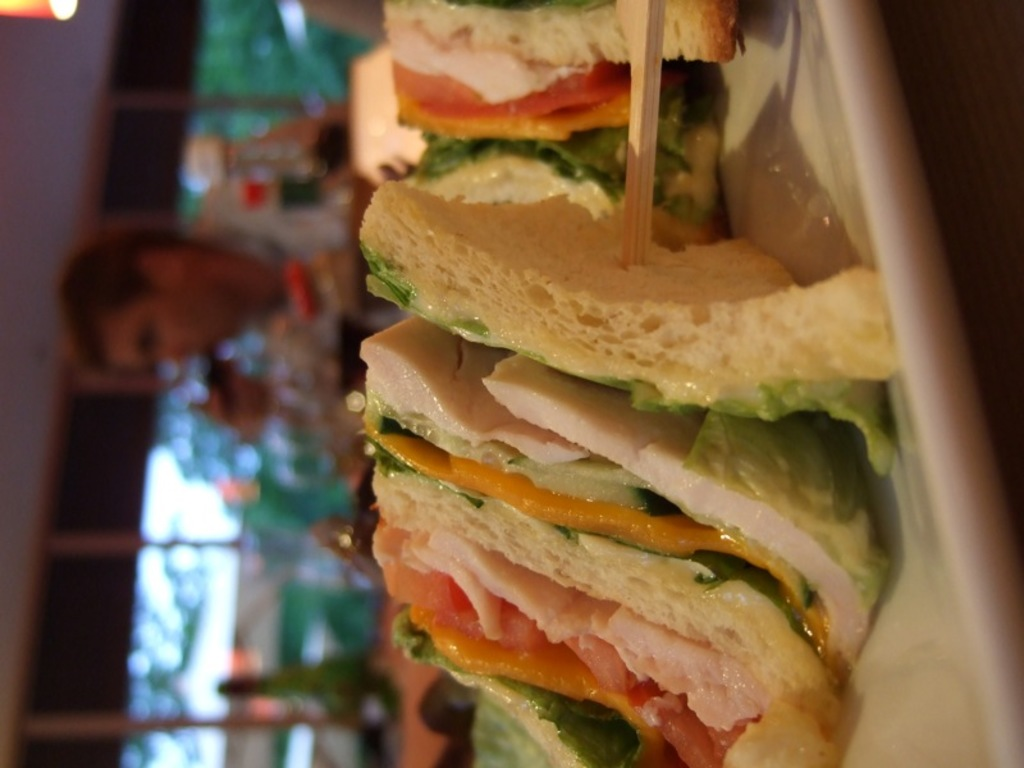sandwich: (351, 0, 901, 767)
